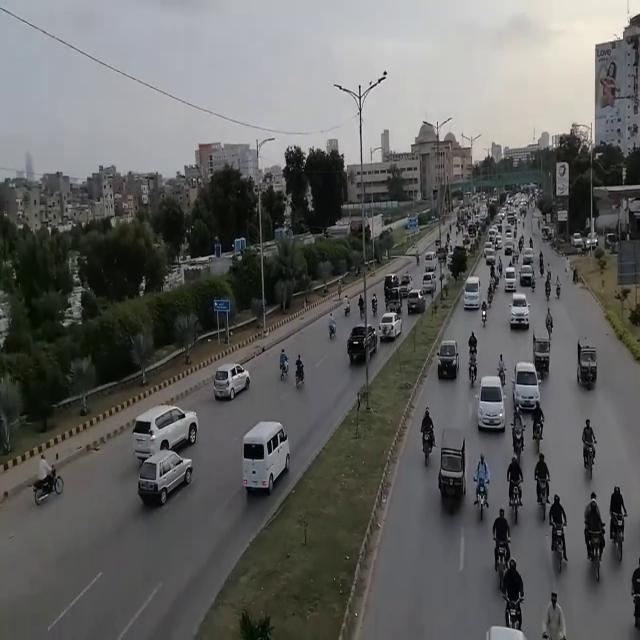car: (137, 438, 194, 508), (475, 377, 506, 438), (212, 363, 251, 407), (512, 359, 541, 412), (346, 321, 378, 362), (436, 342, 461, 384), (508, 293, 531, 330), (378, 312, 401, 348), (463, 276, 481, 311), (406, 286, 426, 316), (422, 269, 438, 294), (504, 266, 518, 294), (520, 265, 534, 289), (383, 271, 398, 292), (503, 240, 515, 258), (486, 248, 496, 267)
motorbike: (136, 396, 199, 461), (29, 448, 67, 507), (584, 485, 605, 587), (548, 493, 570, 574), (490, 506, 510, 590), (608, 480, 627, 566), (472, 449, 492, 524), (506, 556, 525, 632), (506, 452, 524, 526), (417, 402, 437, 466), (534, 451, 552, 522), (582, 415, 596, 480), (511, 408, 526, 459), (532, 401, 547, 451), (293, 348, 306, 396), (468, 330, 478, 390), (277, 347, 290, 384), (467, 350, 479, 390), (327, 311, 337, 345), (498, 351, 508, 385), (546, 308, 555, 341), (371, 290, 380, 318), (481, 299, 488, 331), (344, 294, 352, 320), (555, 276, 563, 300), (544, 278, 552, 301), (358, 293, 364, 320), (384, 285, 390, 312), (572, 266, 579, 288), (489, 260, 496, 282), (488, 282, 493, 312), (495, 266, 501, 290), (547, 260, 553, 283), (531, 272, 536, 296), (498, 254, 503, 276), (517, 237, 523, 255), (540, 260, 545, 281), (529, 236, 534, 252), (416, 250, 420, 269), (539, 250, 544, 263)
truck: (507, 211, 515, 227)
